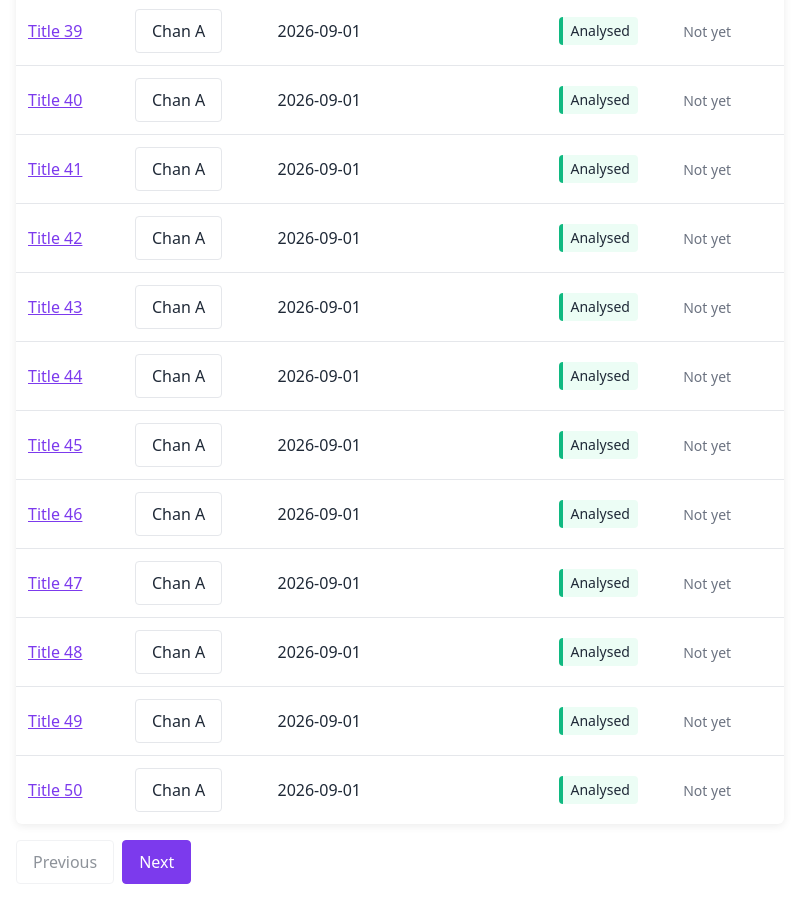
pagination › page 2 shows 51–100 of 234 and Next/Previous push the page into the URL
(page scrolled)
Click the button "Next": (157, 862) x1=122 y1=840 x2=191 y2=884
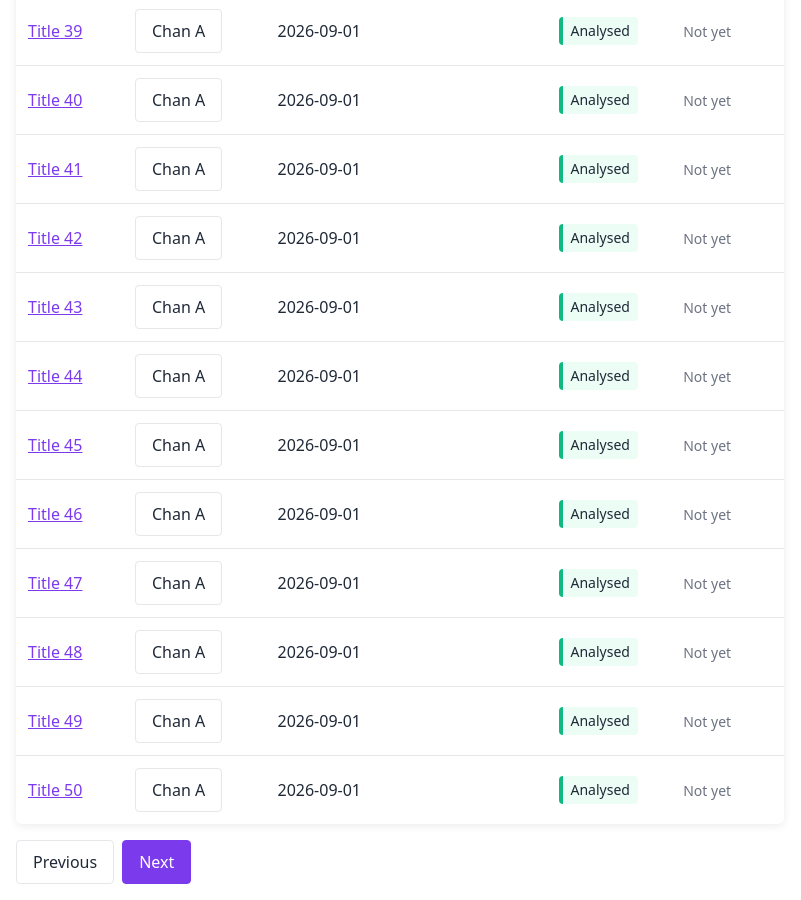
Click the button "Previous": (65, 862) x1=16 y1=840 x2=114 y2=884
(page scrolled)
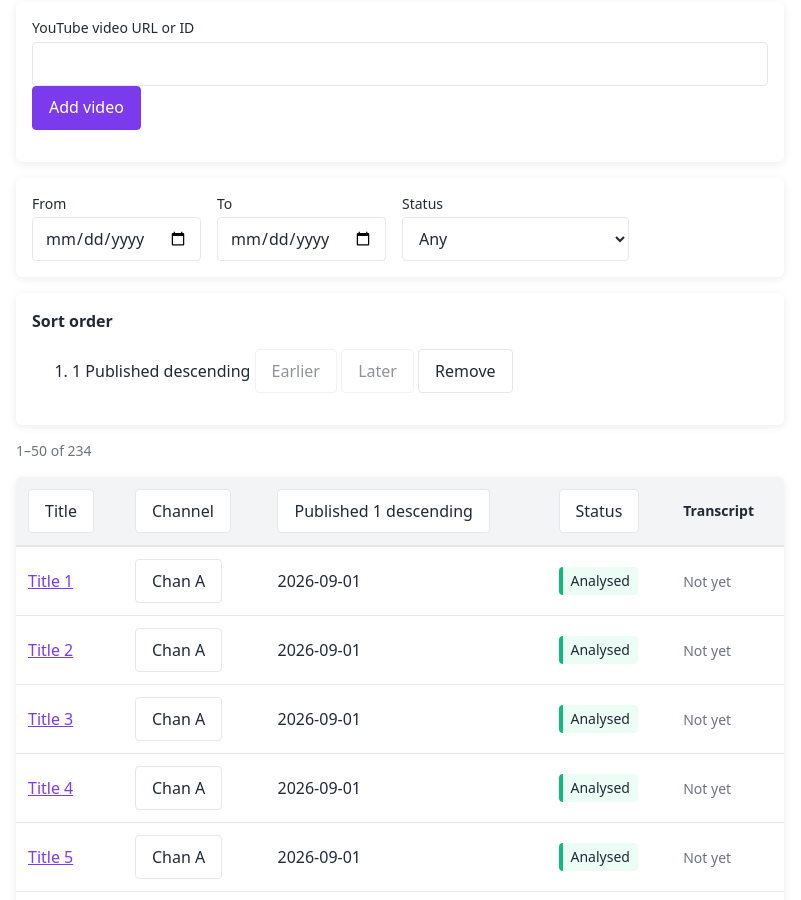
Expected: the message named "Results" reads "1–50 of 234", x1=16 y1=441 x2=92 y2=460
